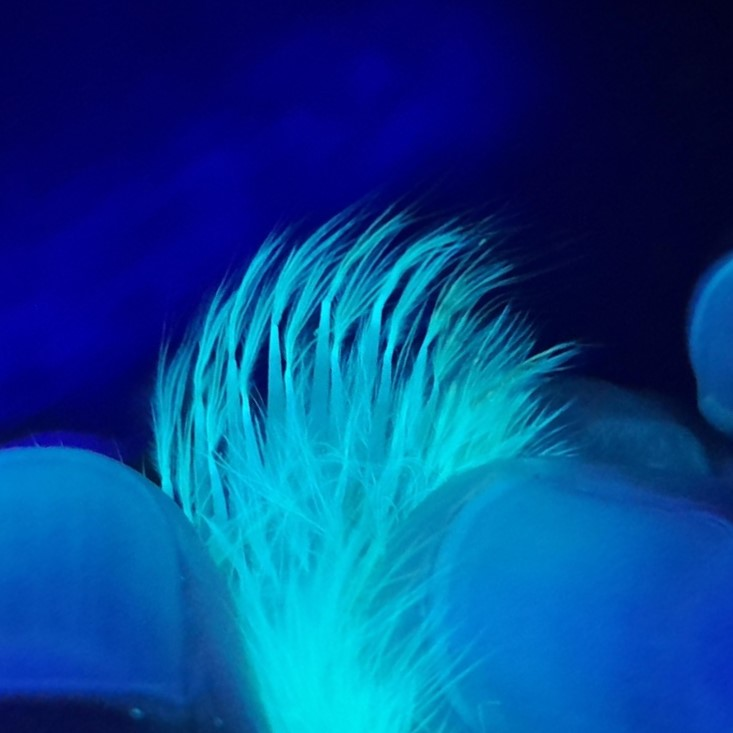female: (176, 297, 490, 587)
